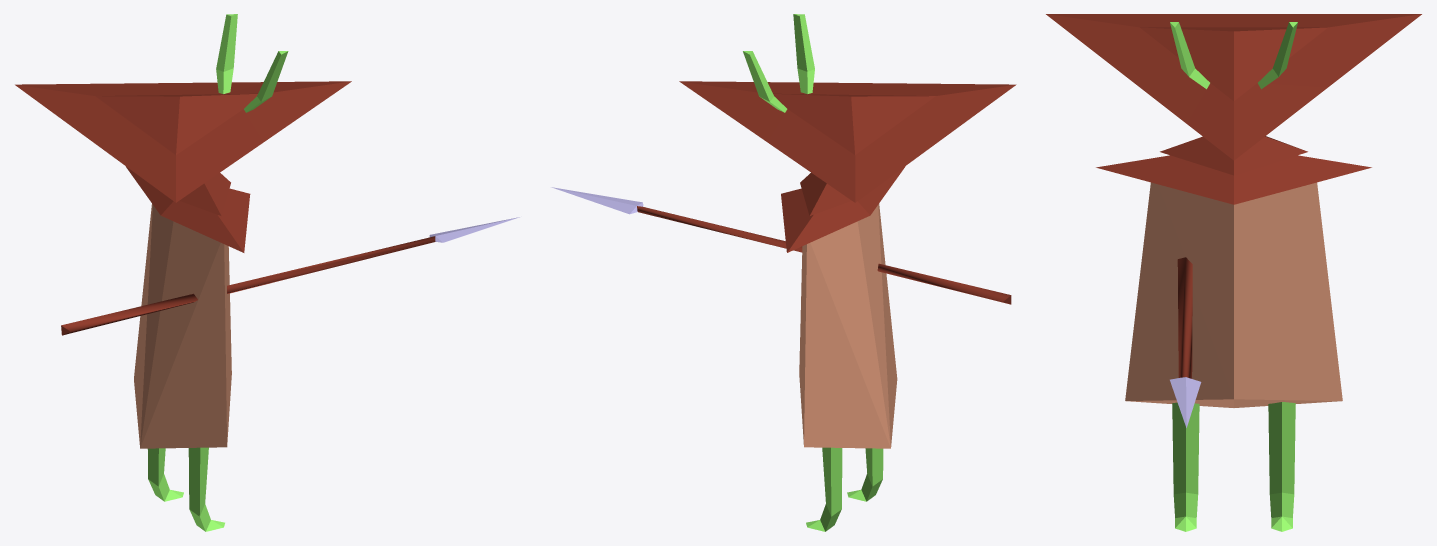
File: nukitsamees_small1.glb
The picture shows the model from 3 angles, left to right: view 1: azimuth 30°, elevation 25°; view 2: azimuth 150°, elevation 25°; view 3: azimuth 270°, elevation 25°; orthographic projection. The views are drawn at different scales.
Parts seen in each view (by area): view 1: cloak, head, leg2, leg; view 2: cloak, head, leg, leg2; view 3: cloak, head, leg, leg2.
Boxes of the visible parts, x1=… form: cloak: x1=61, y1=166, x2=519, y2=448; head: x1=15, y1=14, x2=351, y2=202; leg2: x1=188, y1=447, x2=224, y2=531; leg: x1=147, y1=448, x2=183, y2=501; cloak: x1=551, y1=166, x2=1011, y2=448; head: x1=679, y1=14, x2=1016, y2=202; leg: x1=806, y1=447, x2=842, y2=531; leg2: x1=847, y1=448, x2=883, y2=501; cloak: x1=1096, y1=136, x2=1371, y2=427; head: x1=1046, y1=14, x2=1421, y2=160; leg: x1=1268, y1=402, x2=1295, y2=531; leg2: x1=1172, y1=402, x2=1199, y2=531.
Size of the model in its own units: 2.59 by 2.48 by 1.58.
